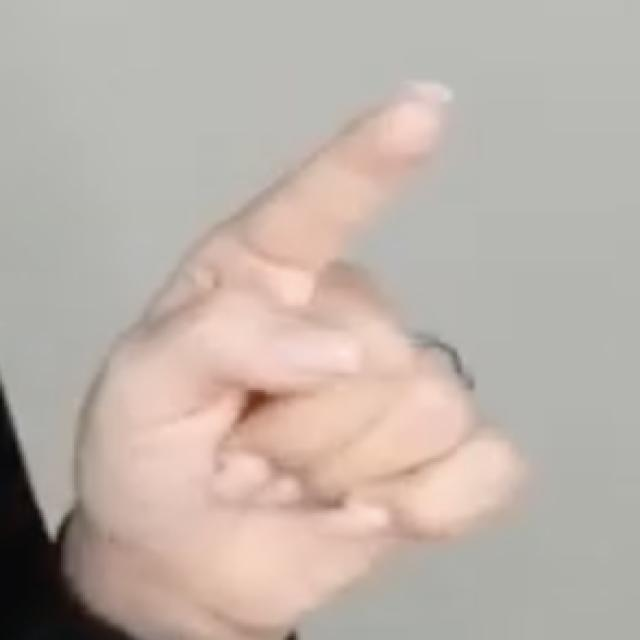Z: (60, 67, 532, 614)
